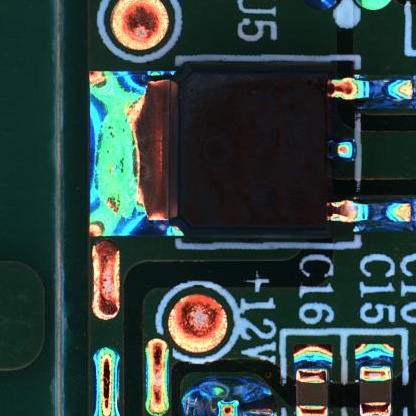spot: (166, 290, 234, 356)
